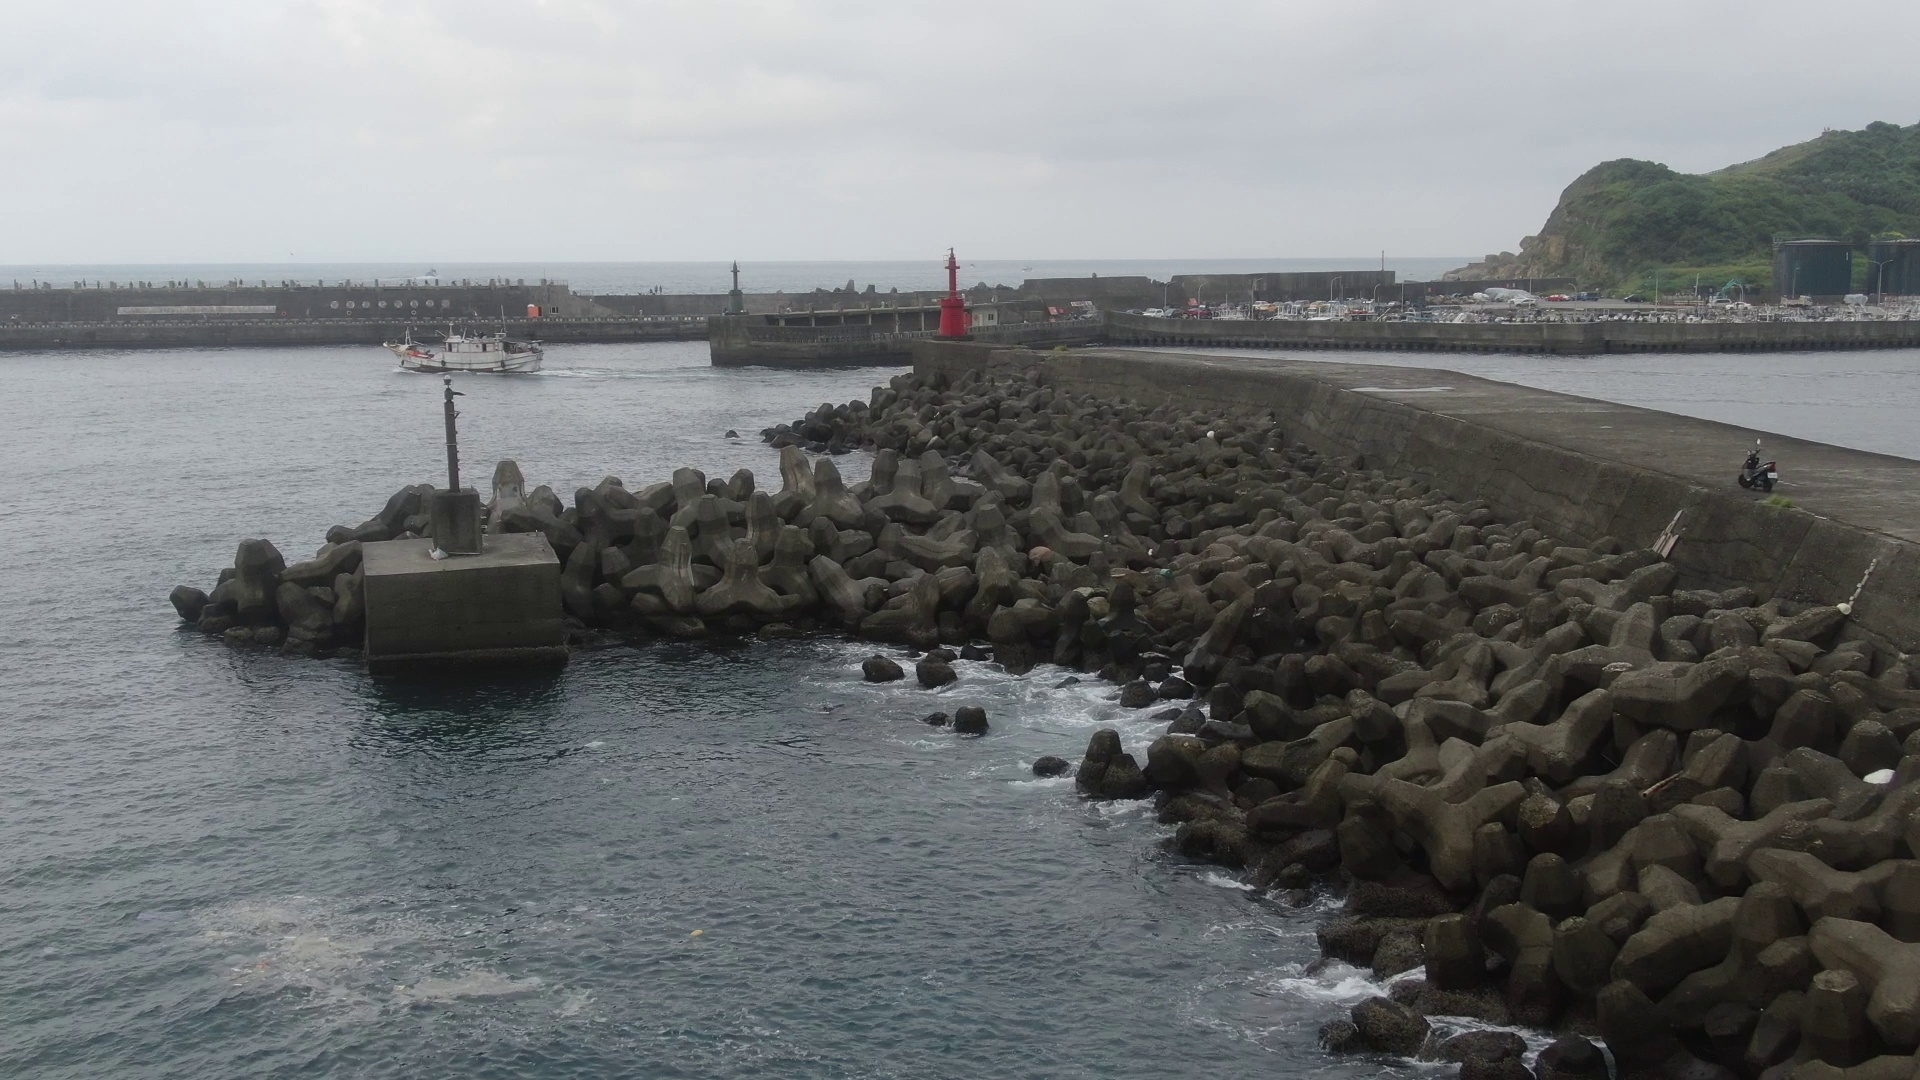garbage: (1853, 752, 1903, 804)
